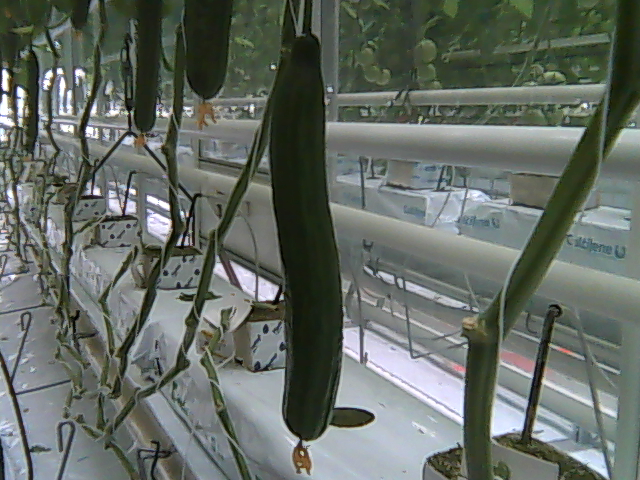concombre: (264, 13, 346, 475), (179, 1, 234, 131)
